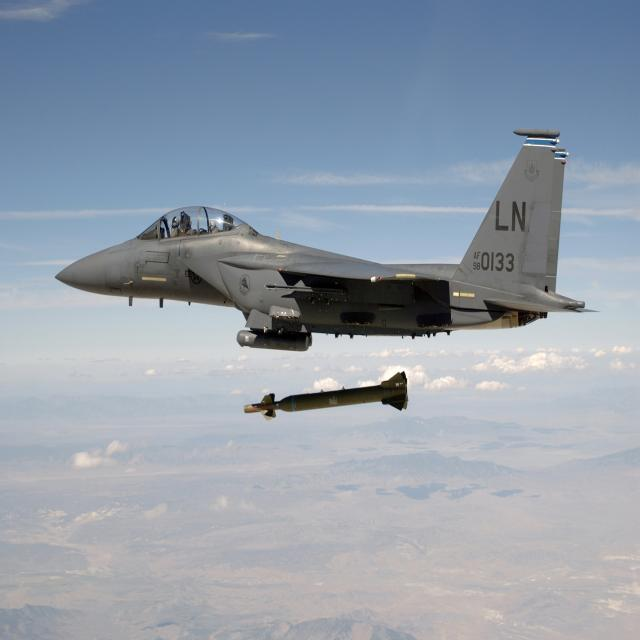F15: (53, 92, 612, 400)
